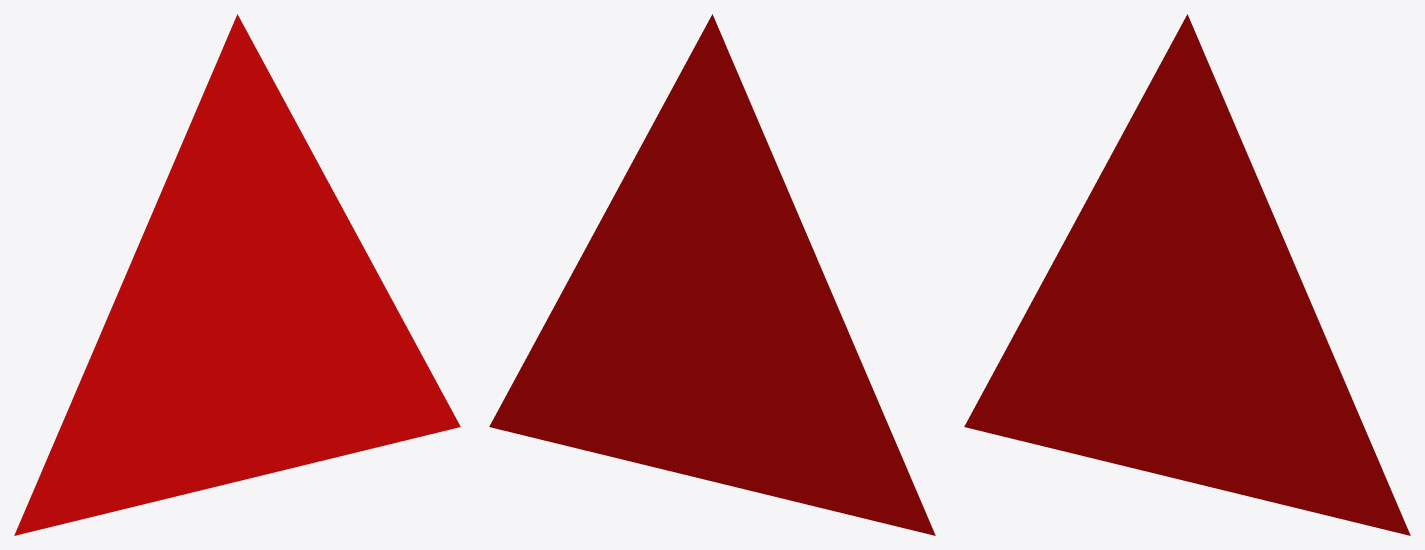
Rendered from pointer-show.glb.
The picture shows the model from 3 angles, left to right: view 1: azimuth 30°, elevation 25°; view 2: azimuth 150°, elevation 25°; view 3: azimuth 330°, elevation 25°; orthographic projection.
Size of the model in its own units: 1 by 1 by 0.
